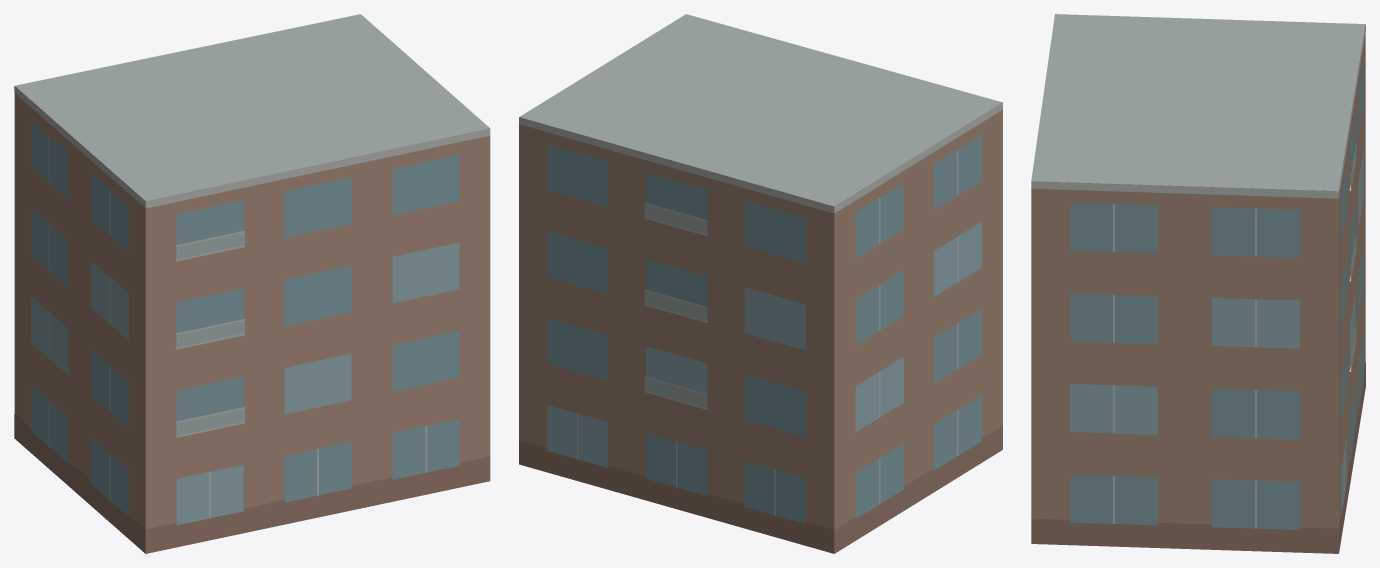
File: survey-upis-32910951.glb
The picture shows the model from 3 angles, left to right: view 1: azimuth 30°, elevation 25°; view 2: azimuth 150°, elevation 25°; view 3: azimuth 270°, elevation 25°; orthographic projection. The views are drawn at different scales.
Visible parts, largest first — view 1: survey-upis-32910951.tmp; view 2: survey-upis-32910951.tmp; view 3: survey-upis-32910951.tmp.
Part boxes in pixels (<box>): survey-upis-32910951.tmp: <box>14,14,490,553</box>; survey-upis-32910951.tmp: <box>519,14,1002,553</box>; survey-upis-32910951.tmp: <box>1031,14,1365,553</box>.
Bounding box in the file's own units: 12.43 × 11.85 × 9.92.
